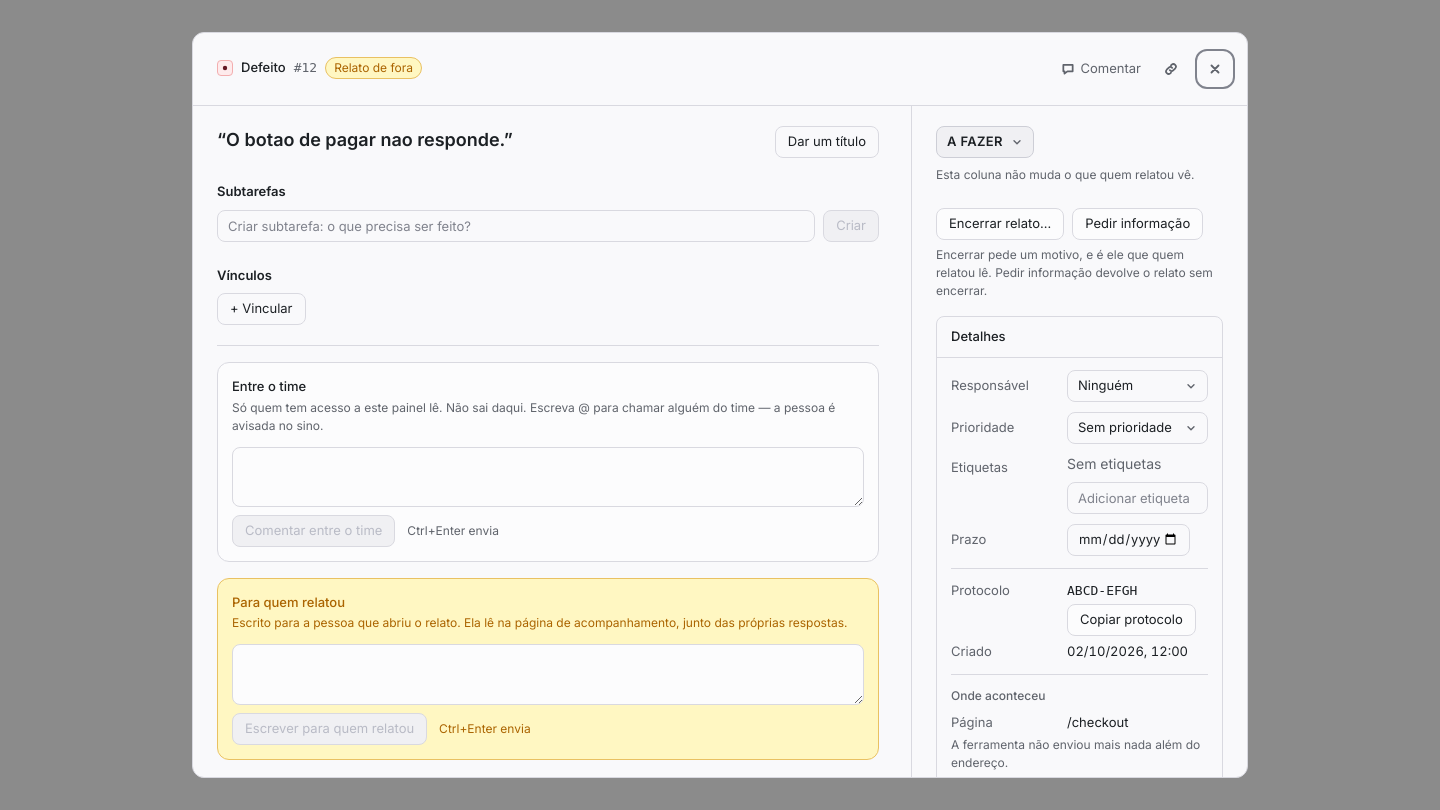
Scenario: as saidas do relato aberto › em qualquer coluna, "Encerrar relato…" e "Pedir informacao" lado a lado; encerrar fora da coluna que encerra move para ela
// O relato esta na primeira coluna — e as duas saidas ja estao la.
Click the button "Encerrar relato…" at (1000, 224), box [936,208,1064,240]
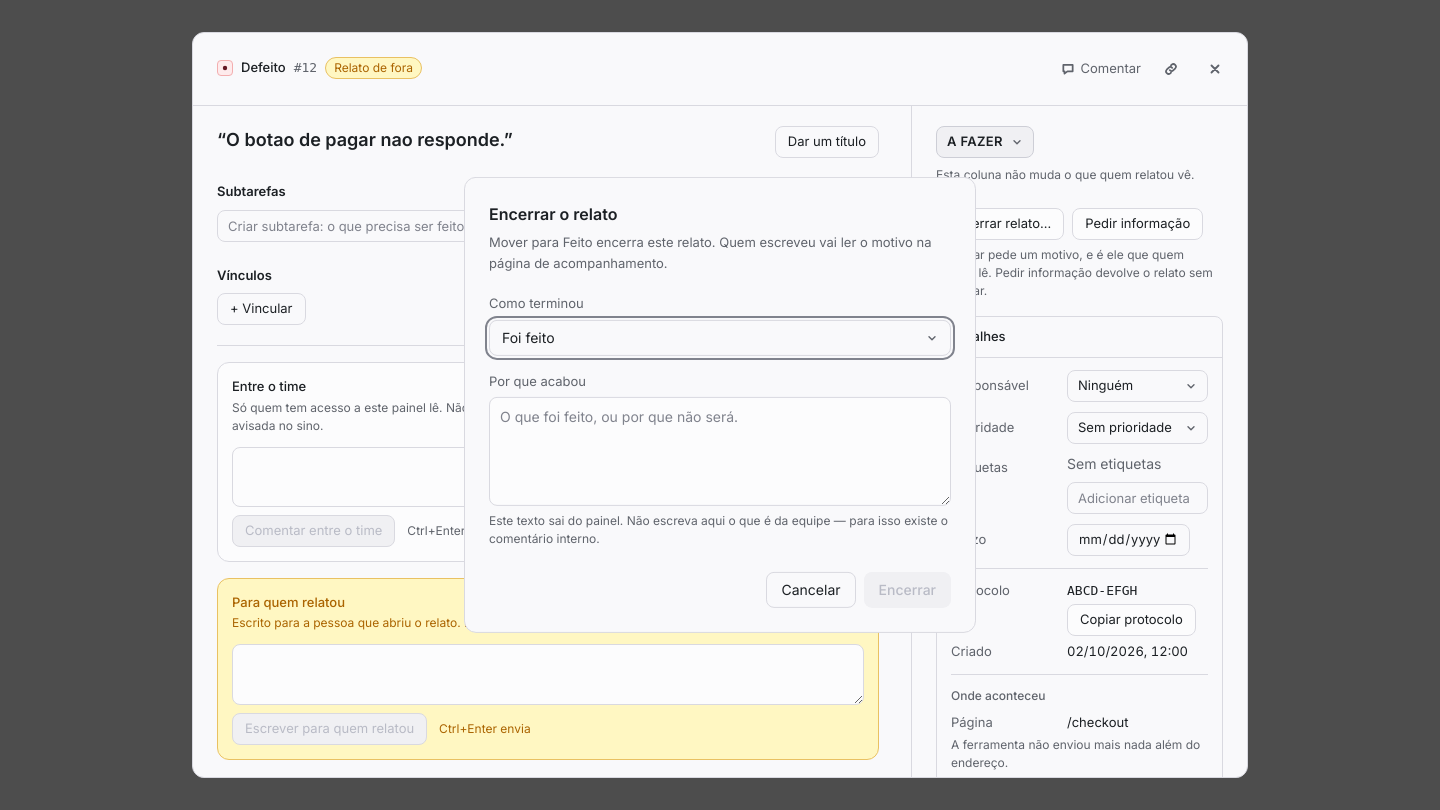
Check: the text "Mover para Feito encerra este relato. Quem escreveu vai ler o motivo na página de acompanhamento." is shown, box [489,234,932,271]
Type "Trocamos o gateway." into the text box labelled "Por que acabou" at (720, 452), box [489,397,951,506]
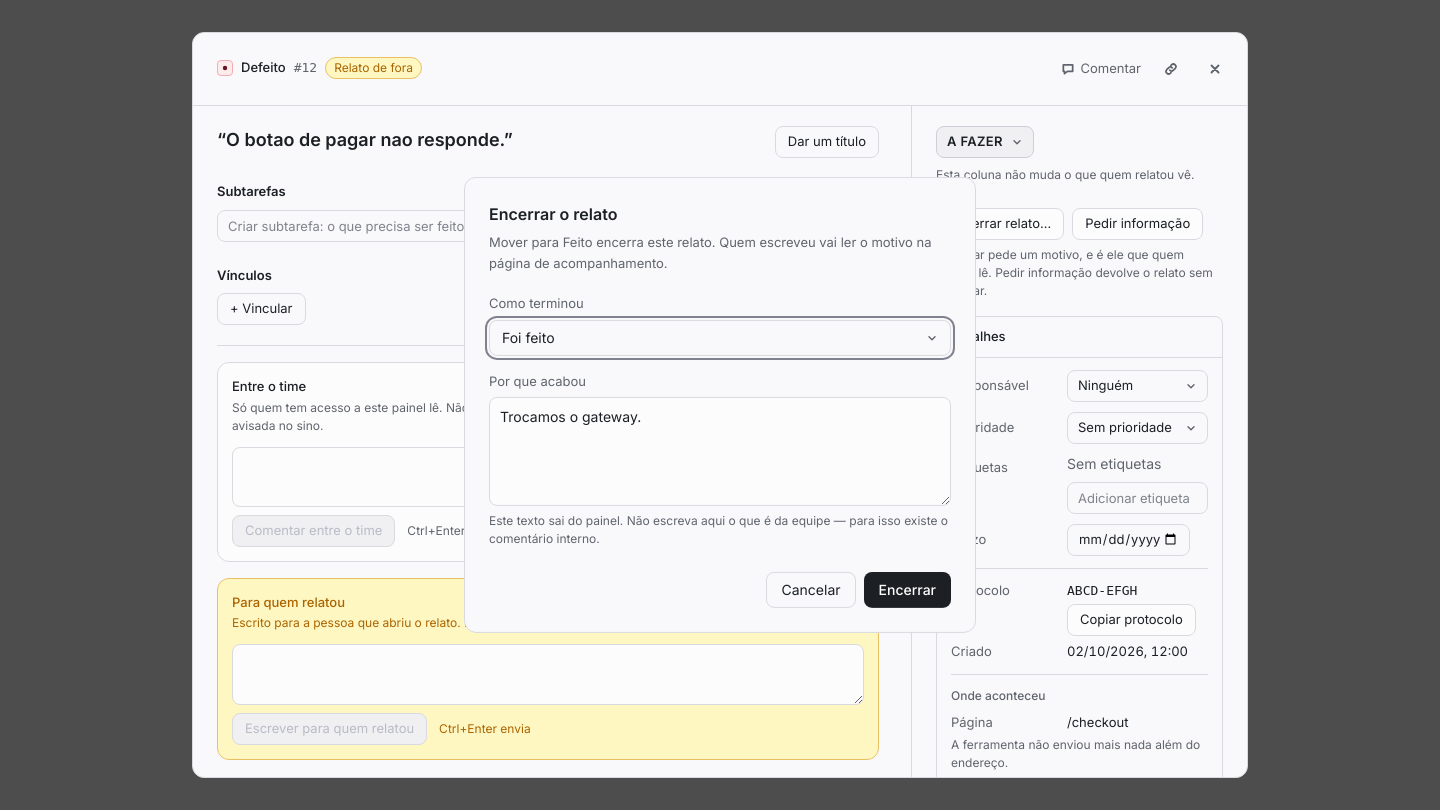
Click the button "Encerrar" at (907, 590), box [864,572,951,608]
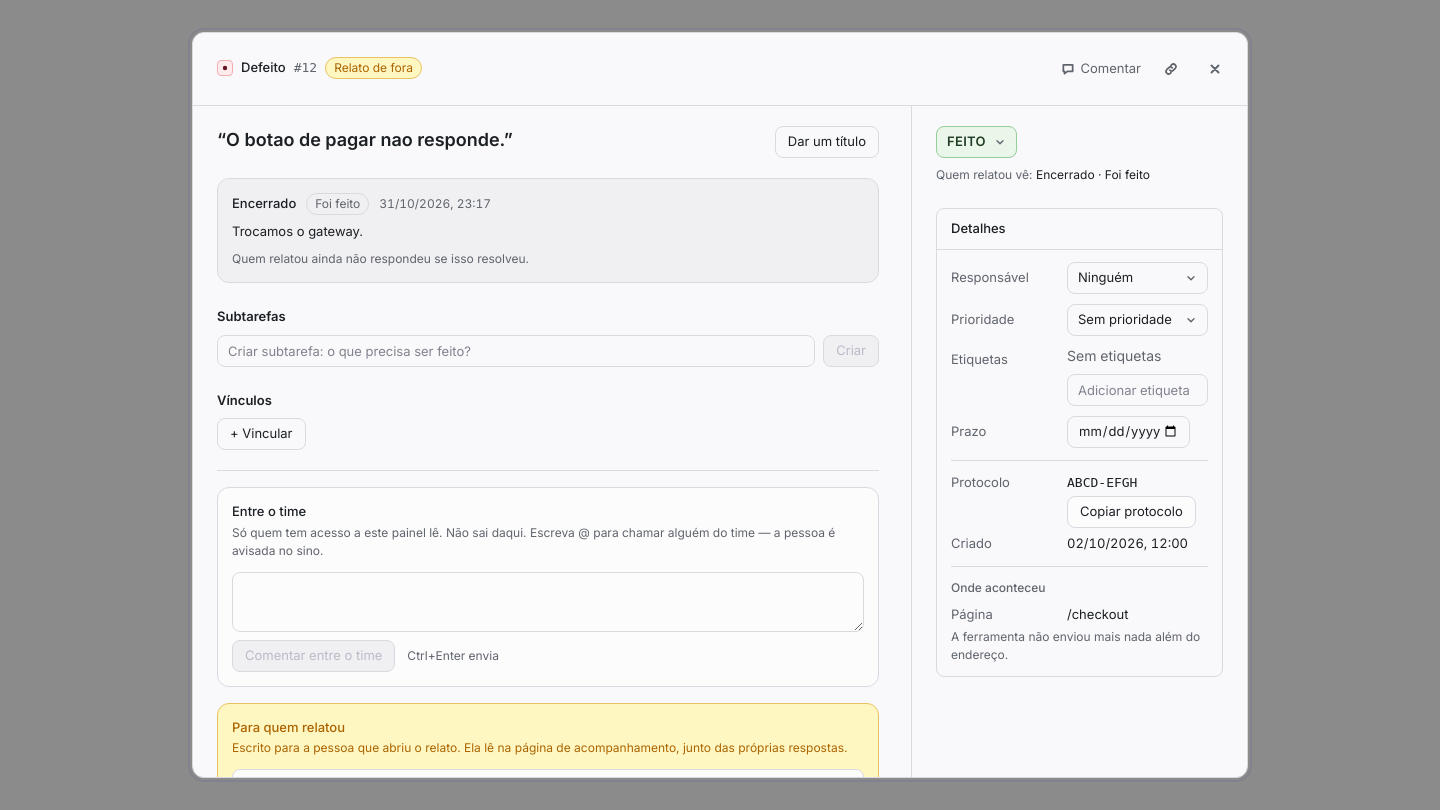
Check: the button "Encerrar relato…" is gone
Check: the heading "Encerrado" is shown, box [232,194,296,214]
Check: the text "Encerrado · Foi feito" is shown, box [1036,167,1150,182]
